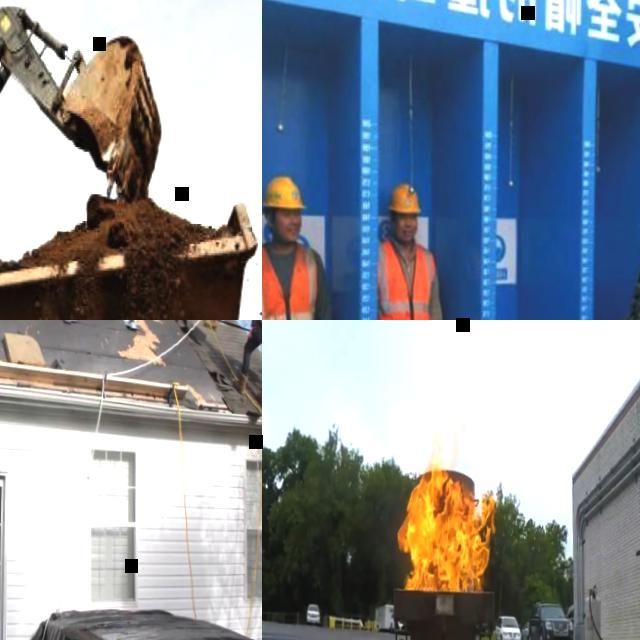Hardhat: (262, 176, 303, 209), (386, 183, 420, 214)
NO-Mask: (271, 218, 298, 239), (392, 221, 415, 242)
Person: (262, 173, 335, 320), (368, 183, 444, 320), (231, 320, 262, 405)
Safety Vest: (372, 240, 435, 320), (262, 242, 318, 320)
vehicle: (0, 0, 167, 320), (0, 195, 262, 320), (527, 600, 572, 640), (493, 614, 520, 640), (303, 603, 320, 624), (389, 614, 404, 633), (566, 603, 573, 627), (520, 622, 527, 640)
